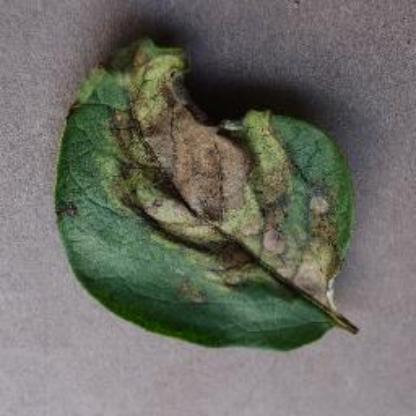Late-Blight: (51, 30, 376, 358)
